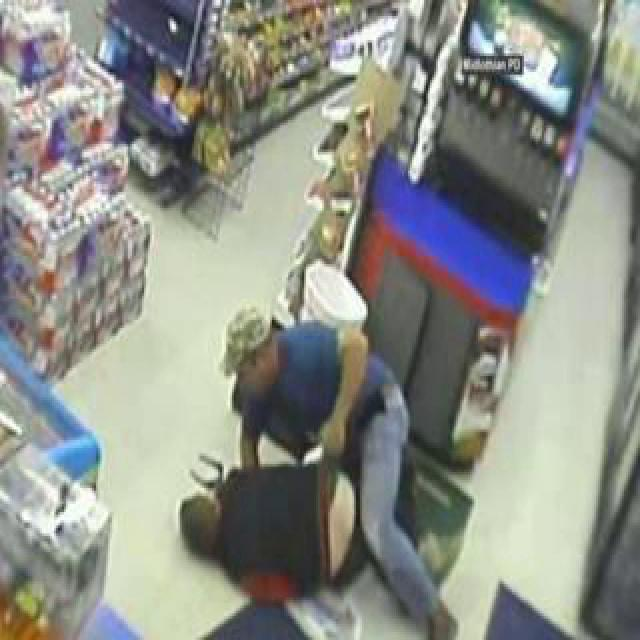arrest: (180, 260, 462, 640)
